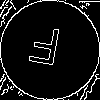F: (25, 25, 63, 75)
